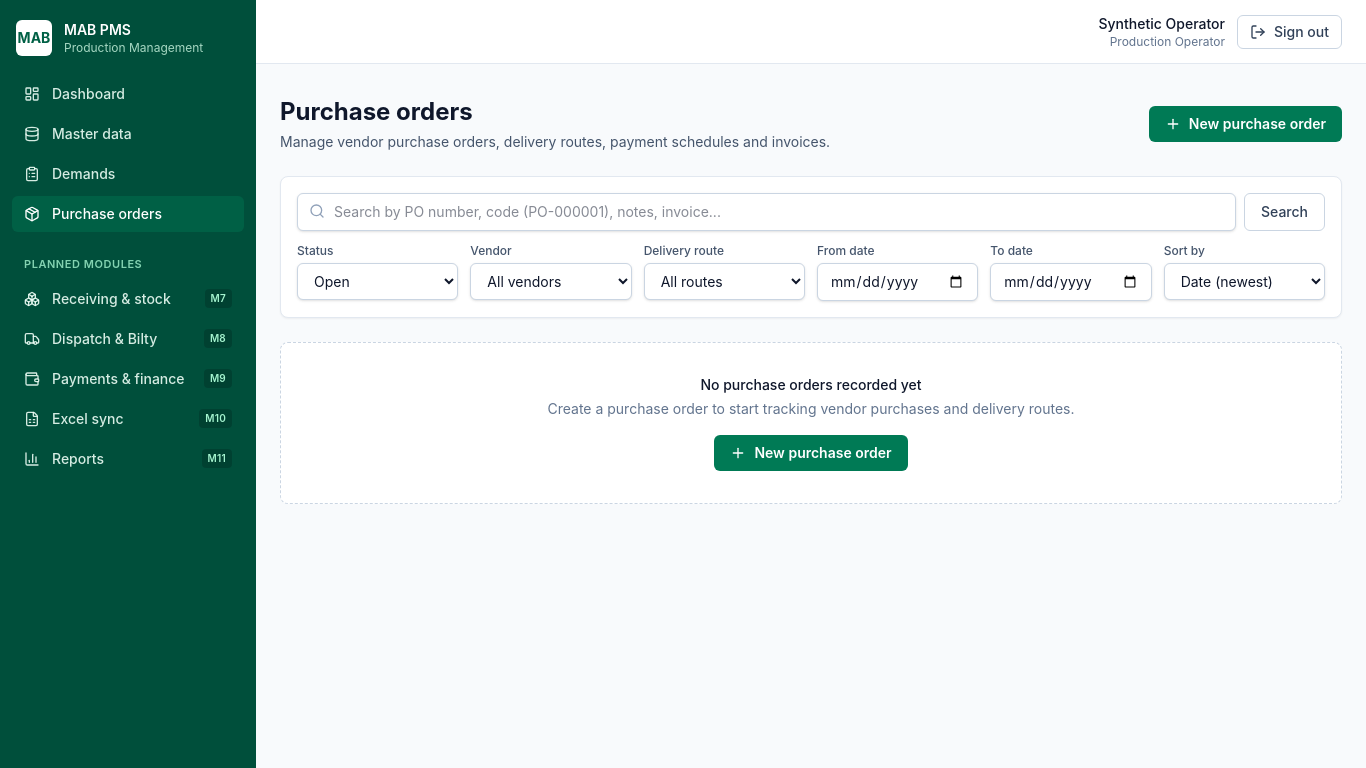
Test case: Purchase orders list › distinguishes an empty register from empty filter results
Check: the text "No purchase orders recorded yet" is shown, box [700, 376, 922, 393]
Step 1. Type "nonexistent" into the field named "Search purchase orders" → point(766, 212), box [297, 193, 1236, 231]
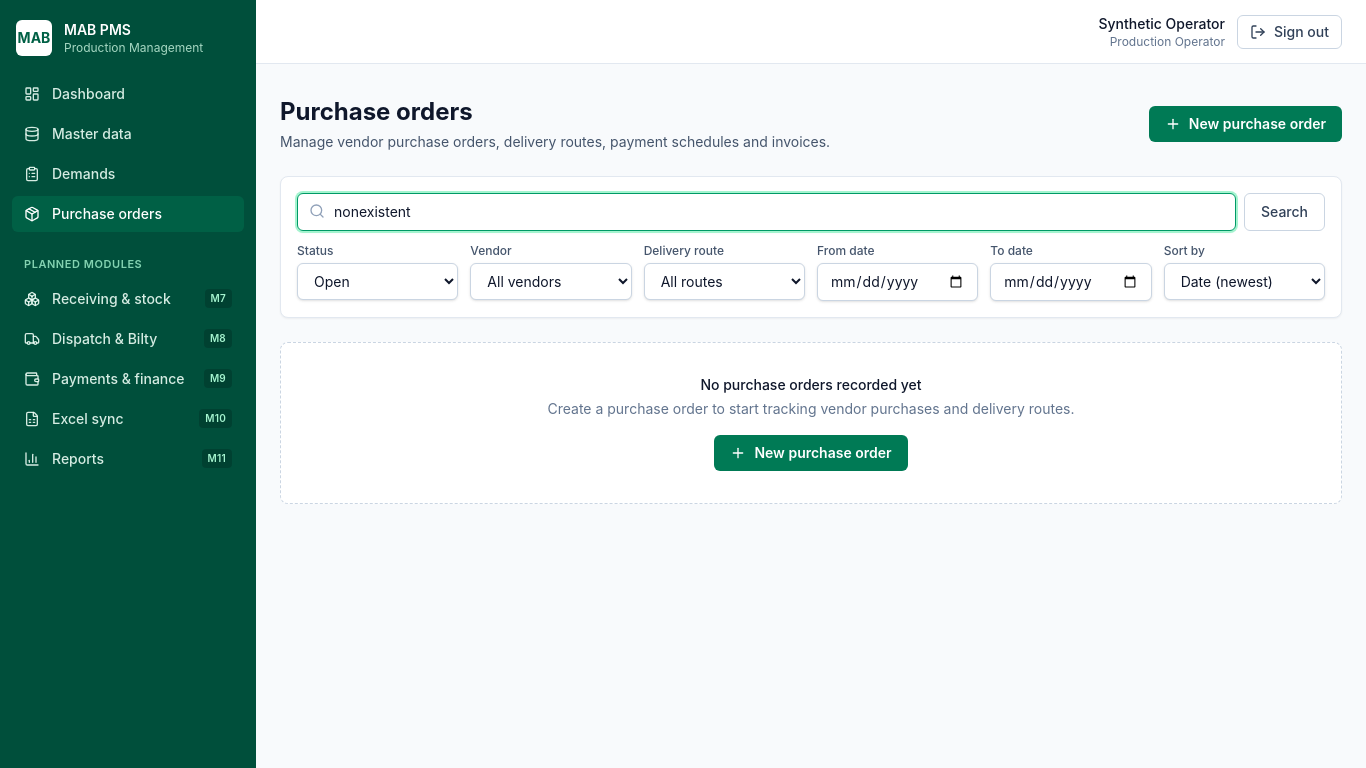
Step 2. Click the button "Search" → point(1284, 212), box [1244, 193, 1325, 231]
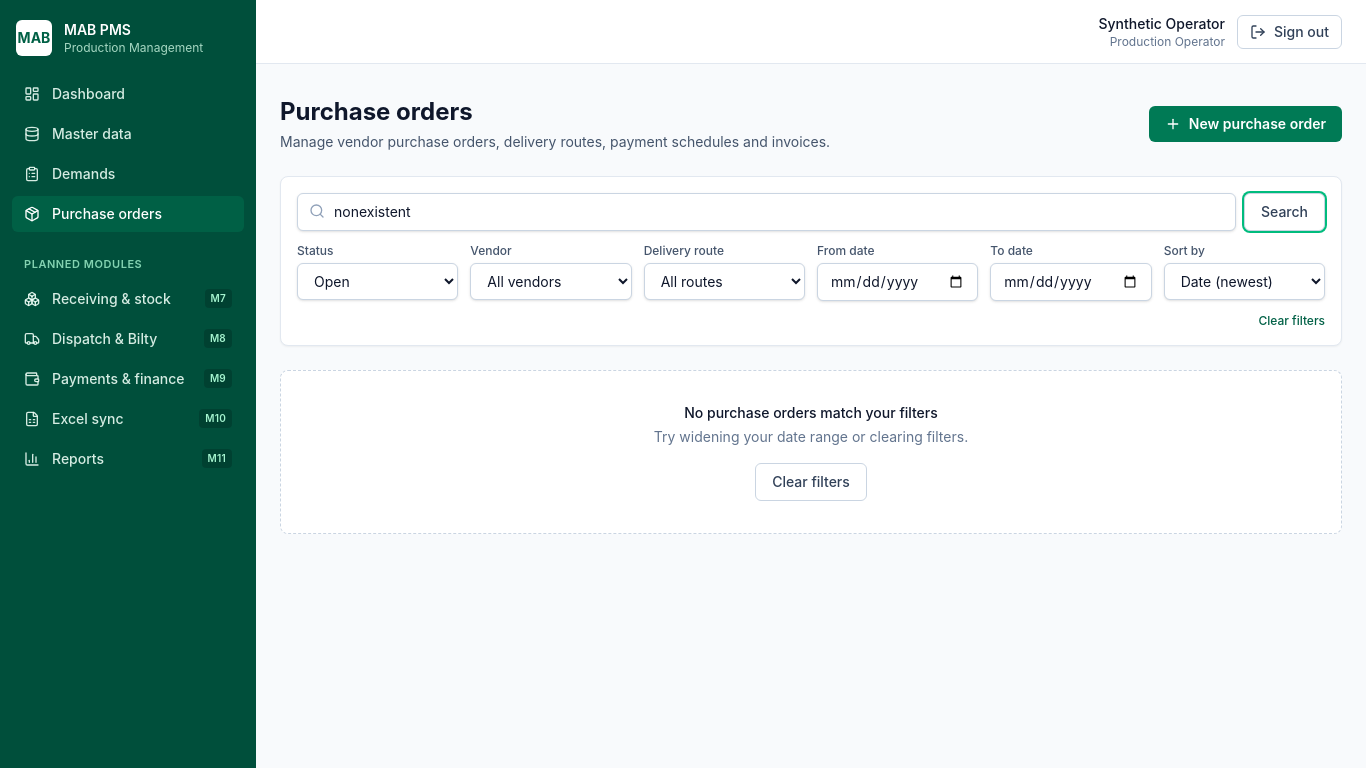
Check: the text "No purchase orders match your filters" is shown, box [684, 404, 938, 421]
